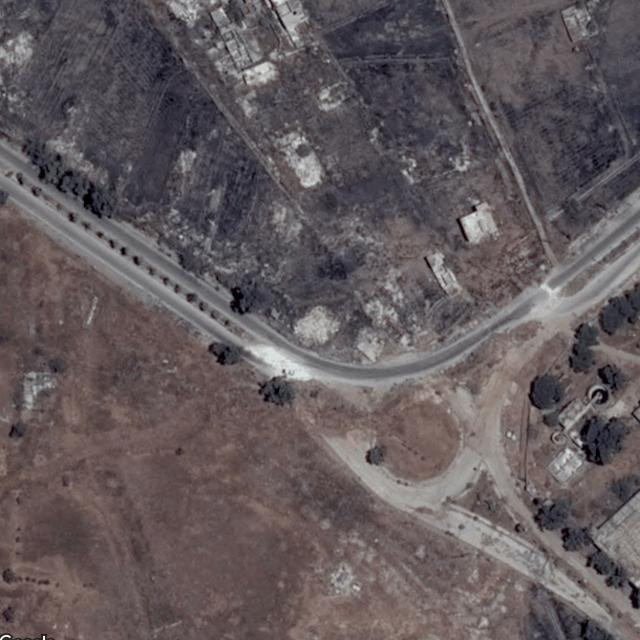damaged_building: (293, 303, 345, 347)
